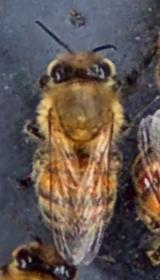varroa_mite: (133, 167, 153, 192)
